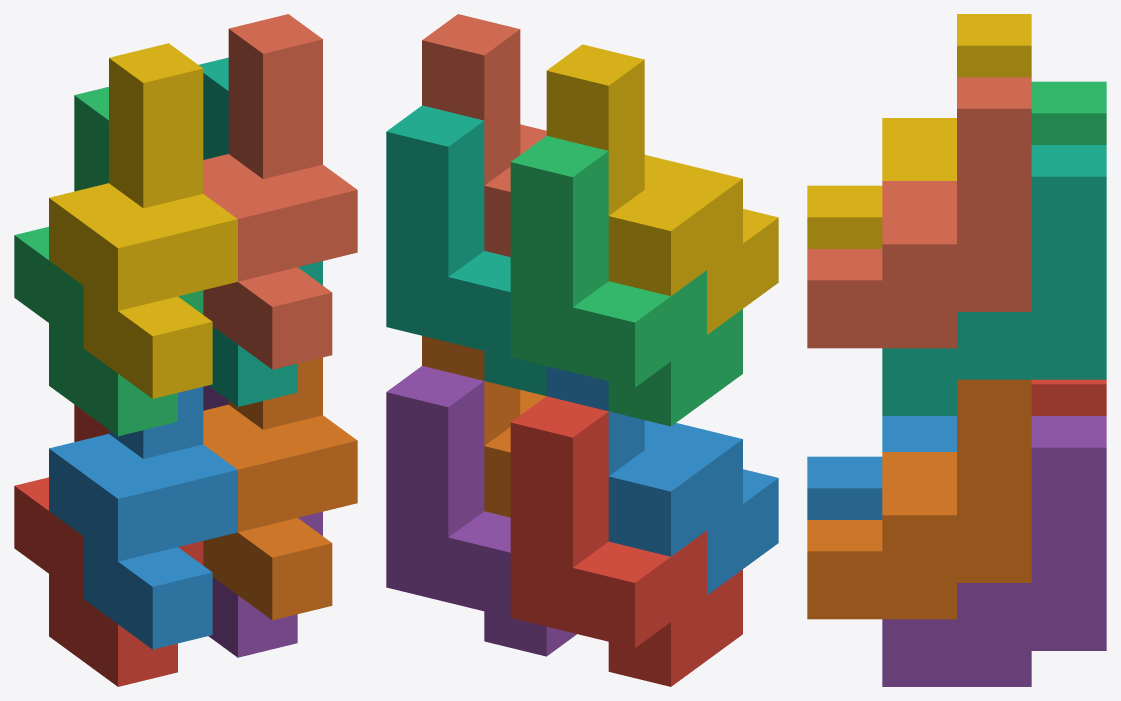
The model's file is tiling.obj.
3 renders of one model, left to right at view 1: azimuth 30°, elevation 25°; view 2: azimuth 150°, elevation 25°; view 3: azimuth 270°, elevation 25°, orthographic. The views are drawn at different scales.
Visible parts, largest first — view 1: copy_1_domain_4, copy_1_domain_8, copy_1_domain_2, copy_1_domain_6, copy_1_domain_3, copy_1_domain_1, copy_1_domain_7, copy_1_domain_5; view 2: copy_1_domain_1, copy_1_domain_3, copy_1_domain_4, copy_1_domain_5, copy_1_domain_7, copy_1_domain_2, copy_1_domain_8, copy_1_domain_6; view 3: copy_1_domain_8, copy_1_domain_6, copy_1_domain_5, copy_1_domain_7, copy_1_domain_4, copy_1_domain_2, copy_1_domain_3, copy_1_domain_1.
Part boxes in pixels (left/top/right/bottom): copy_1_domain_4: left=49, top=43, right=237, bottom=398; copy_1_domain_8: left=203, top=14, right=357, bottom=369; copy_1_domain_2: left=49, top=387, right=237, bottom=649; copy_1_domain_6: left=203, top=357, right=357, bottom=620; copy_1_domain_3: left=14, top=87, right=203, bottom=436; copy_1_domain_1: left=14, top=404, right=203, bottom=686; copy_1_domain_7: left=199, top=57, right=322, bottom=406; copy_1_domain_5: left=203, top=385, right=322, bottom=657; copy_1_domain_1: left=510, top=396, right=742, bottom=686; copy_1_domain_3: left=510, top=135, right=742, bottom=426; copy_1_domain_4: left=546, top=44, right=778, bottom=334; copy_1_domain_5: left=386, top=366, right=576, bottom=656; copy_1_domain_7: left=386, top=105, right=546, bottom=395; copy_1_domain_2: left=546, top=366, right=778, bottom=595; copy_1_domain_8: left=422, top=14, right=546, bottom=256; copy_1_domain_6: left=422, top=336, right=546, bottom=517; copy_1_domain_8: left=807, top=77, right=1031, bottom=348; copy_1_domain_6: left=807, top=379, right=1031, bottom=619; copy_1_domain_5: left=882, top=416, right=1106, bottom=686; copy_1_domain_7: left=882, top=145, right=1106, bottom=415; copy_1_domain_4: left=807, top=14, right=1031, bottom=248; copy_1_domain_2: left=807, top=416, right=956, bottom=519; copy_1_domain_3: left=1031, top=81, right=1106, bottom=144; copy_1_domain_1: left=1031, top=379, right=1106, bottom=415.
Size of the model in its own units: 4 by 9 by 4.
